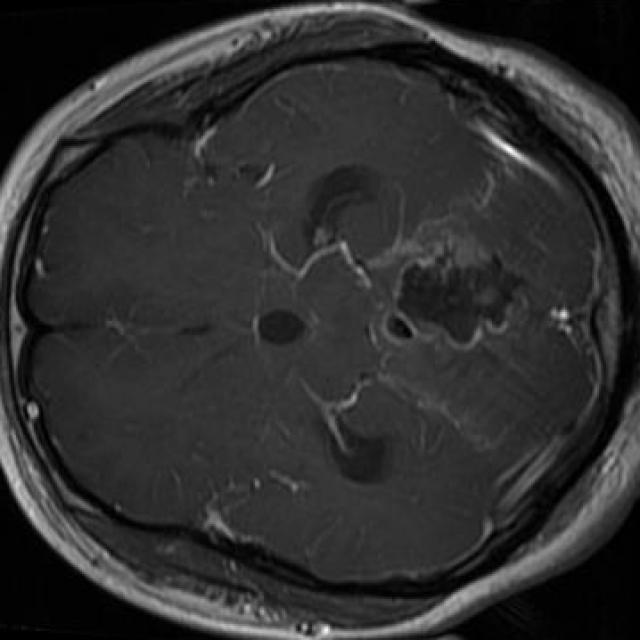glioma: (387, 219, 522, 353)
